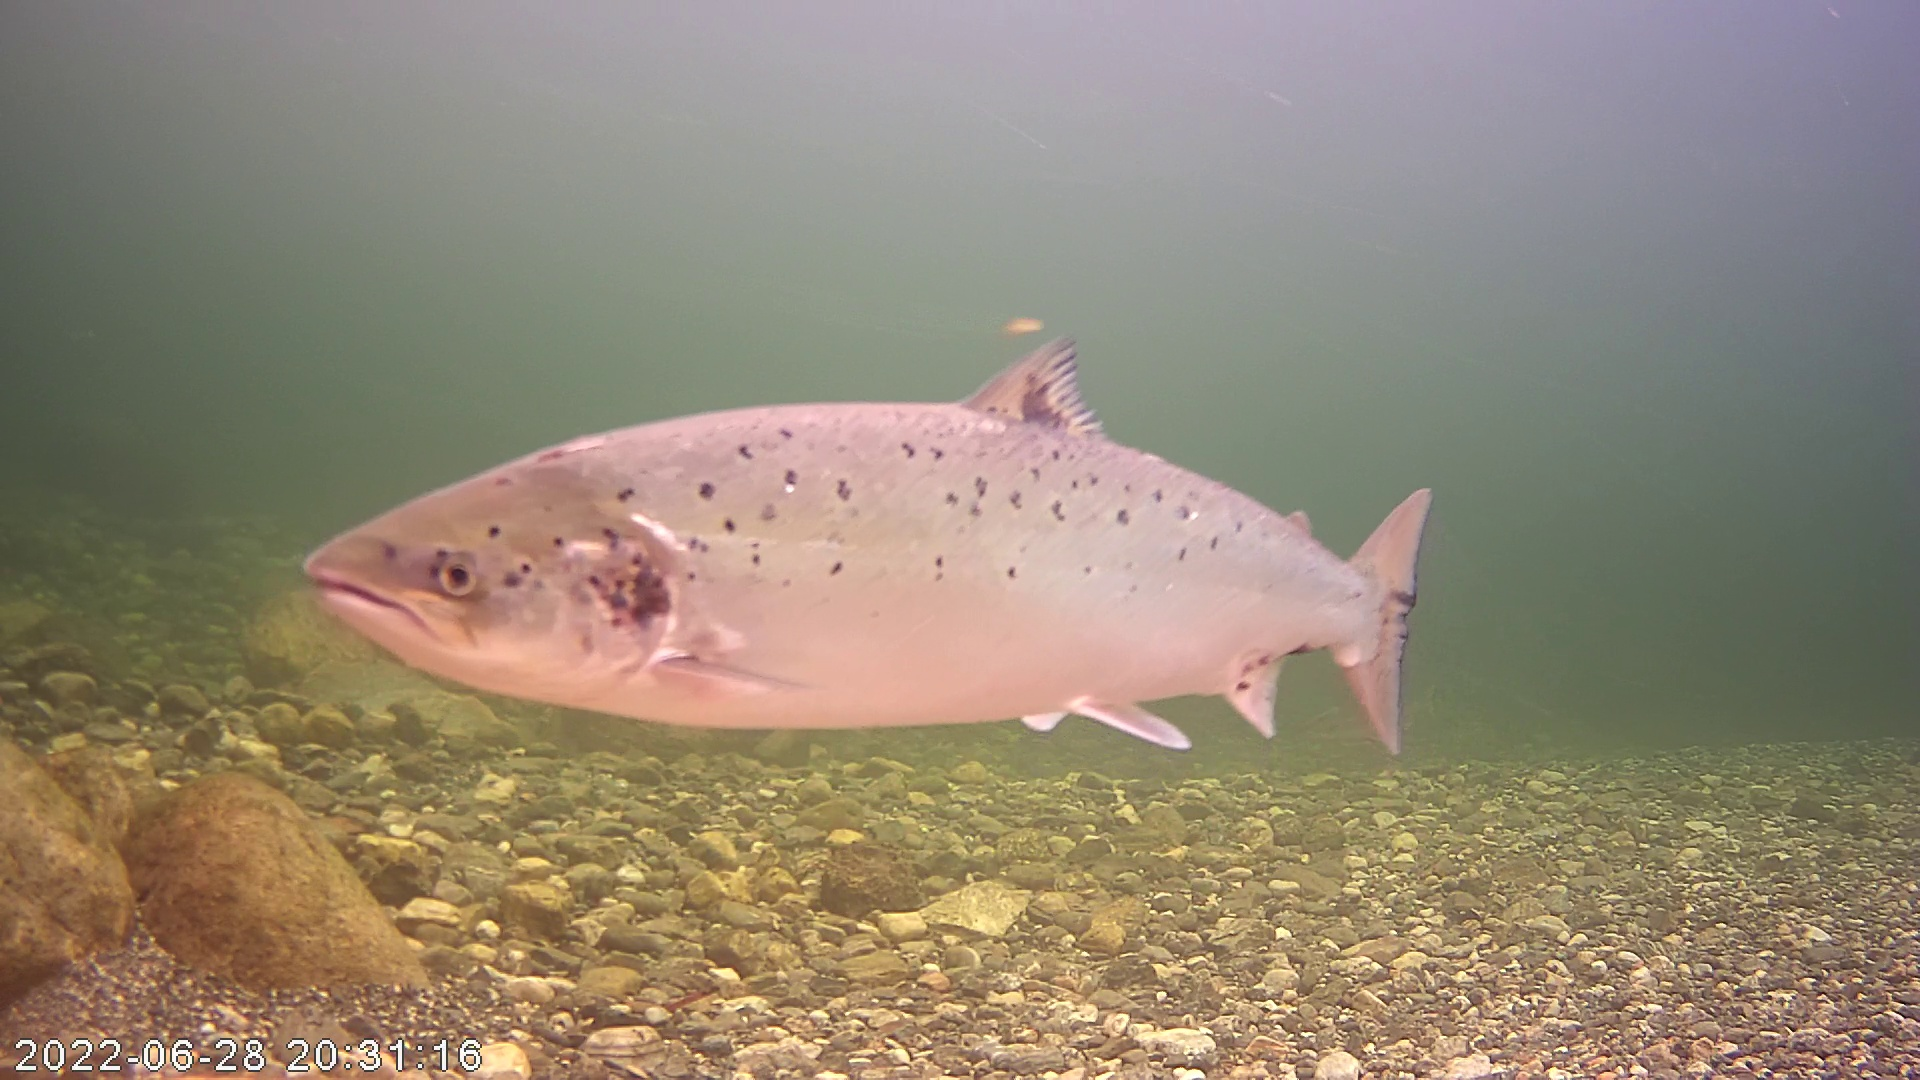salmon: (295, 289, 1391, 732)
